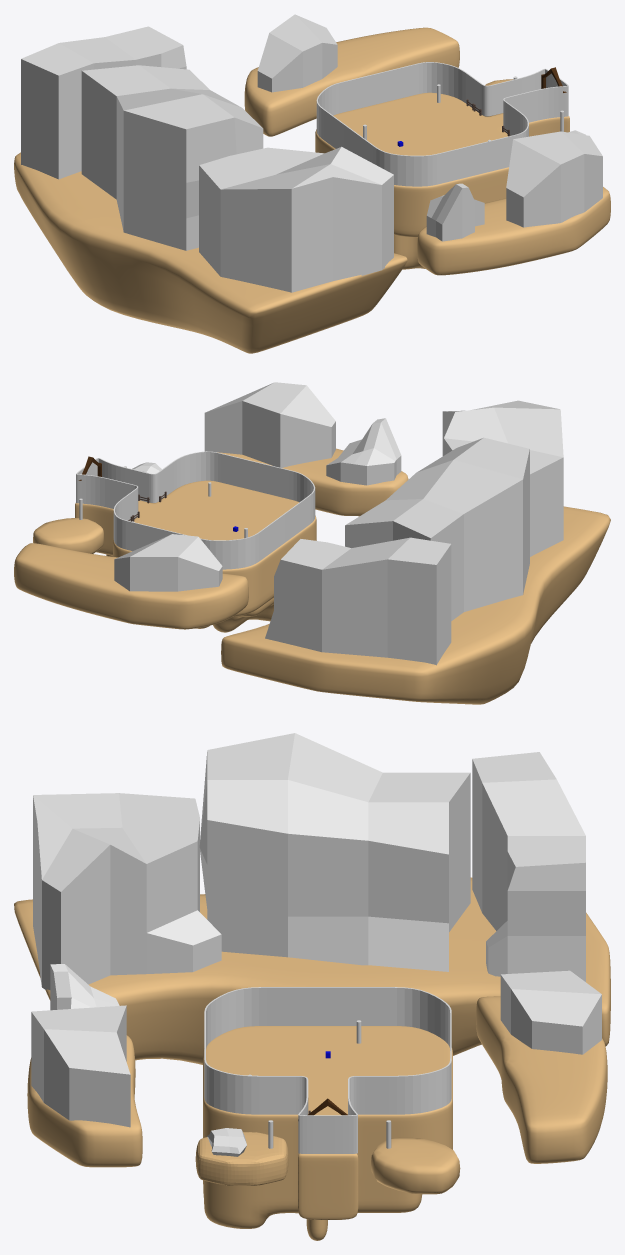
The model's file is Nivel1 Sala1.fbx.
3 views of the same model, one above another, from view 1: azimuth 30°, elevation 25°; view 2: azimuth 150°, elevation 25°; view 3: azimuth 270°, elevation 25° (orthographic). The views are drawn at different scales.
Parts seen in each view (by area): view 1: Roca.062, Cube.001, Cube, Limite, Base 1-1, Roca.065, Roca.063, Roca.066; view 2: Roca.062, Cube.001, Cube, Limite, Base 1-1, Roca.065, Roca.063, Roca.066, Cube.003; view 3: Roca.062, Base 1-1, Cube.001, Limite, Cube, Roca.065, Roca.063, Cube.003, Cube.002, Roca.066, Roca.064.
Boxes of the visible parts, x1,y1,x2,y2 form: Roca.062: [21, 26, 393, 292]; Cube.001: [14, 152, 407, 353]; Cube: [244, 27, 610, 275]; Limite: [316, 62, 568, 186]; Base 1-1: [315, 92, 569, 269]; Roca.065: [506, 131, 602, 227]; Roca.063: [257, 14, 337, 92]; Roca.066: [426, 183, 484, 241]; Roca.062: [265, 400, 563, 665]; Cube.001: [221, 506, 610, 704]; Cube: [14, 448, 408, 629]; Limite: [76, 451, 315, 569]; Base 1-1: [75, 480, 316, 632]; Roca.065: [204, 382, 335, 467]; Roca.063: [114, 534, 222, 591]; Roca.066: [326, 418, 401, 485]; Cube.003: [33, 518, 103, 553]; Roca.062: [33, 733, 585, 990]; Base 1-1: [203, 1026, 452, 1240]; Cube.001: [14, 877, 610, 1064]; Limite: [204, 987, 451, 1153]; Cube: [27, 996, 607, 1167]; Roca.065: [31, 1005, 130, 1127]; Roca.063: [500, 970, 601, 1054]; Cube.003: [371, 1137, 460, 1194]; Cube.002: [195, 1132, 288, 1185]; Roca.066: [50, 964, 119, 1010]; Roca.064: [207, 1128, 246, 1156].
Bounding box in the file's own units: 27348 × 11752 × 22739.
